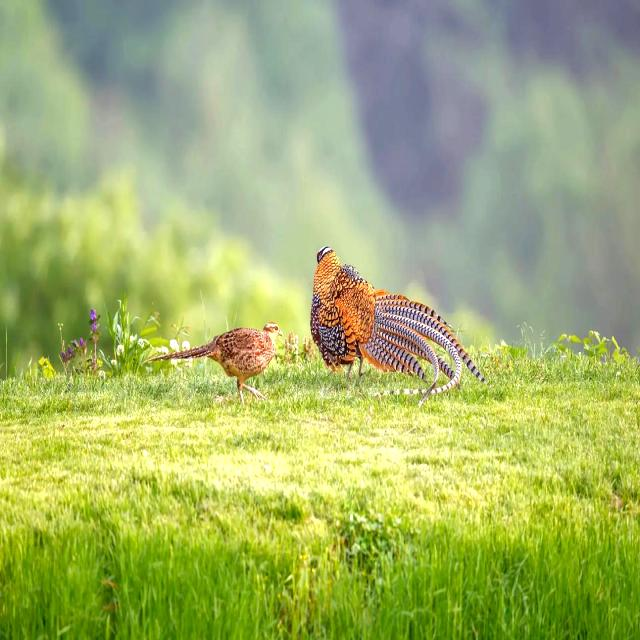Reeves-s Pheasant: (363, 294, 492, 409)
